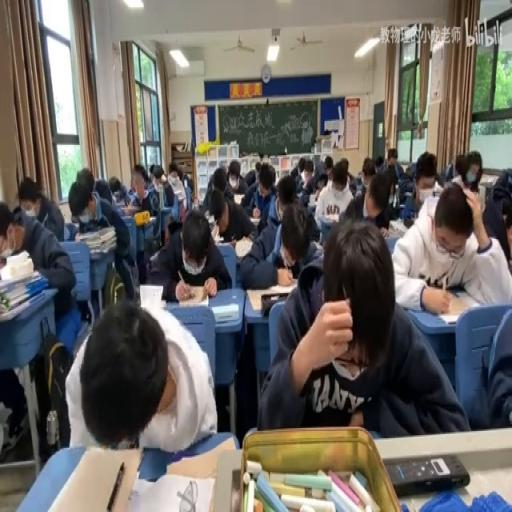calculator: (38, 444, 141, 509), (128, 469, 216, 512), (163, 434, 234, 479), (0, 287, 46, 321), (431, 289, 472, 320), (246, 284, 294, 310), (0, 264, 38, 291), (172, 283, 210, 306), (138, 283, 164, 311), (212, 302, 238, 322), (234, 236, 252, 258), (382, 232, 400, 254), (64, 219, 78, 240), (388, 219, 406, 235), (122, 202, 140, 215), (210, 228, 224, 244), (478, 174, 496, 186), (323, 212, 341, 222), (112, 199, 125, 212), (307, 194, 319, 208), (157, 182, 163, 208), (233, 193, 245, 205), (312, 239, 322, 253), (228, 142, 238, 156), (205, 213, 215, 226), (149, 250, 158, 263), (249, 216, 261, 225)
paper: (263, 218, 468, 436), (69, 294, 214, 458), (0, 192, 78, 455), (82, 169, 140, 297), (154, 205, 230, 300), (242, 201, 320, 290), (464, 304, 510, 430), (344, 168, 392, 232), (482, 170, 511, 268), (405, 148, 441, 205), (241, 159, 275, 218), (158, 160, 186, 224), (126, 164, 156, 214), (202, 164, 234, 206), (299, 155, 328, 199), (0, 205, 23, 259), (270, 179, 295, 225), (464, 149, 482, 188), (76, 166, 95, 198), (330, 159, 348, 189), (360, 158, 376, 186), (438, 162, 453, 184), (348, 176, 363, 196), (108, 175, 122, 196), (152, 165, 166, 185), (227, 159, 240, 178), (181, 170, 192, 190), (296, 155, 306, 176), (324, 155, 333, 174), (387, 148, 398, 163), (374, 155, 383, 171), (405, 164, 414, 179), (388, 161, 397, 175), (254, 160, 261, 174), (148, 162, 154, 175), (346, 169, 352, 181)
person: (386, 452, 470, 496), (404, 215, 414, 226)
